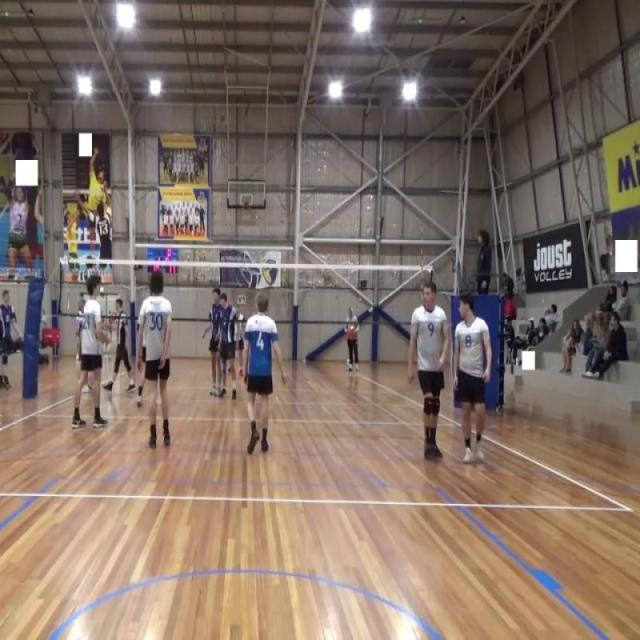volleyball: (349, 324, 356, 335)
